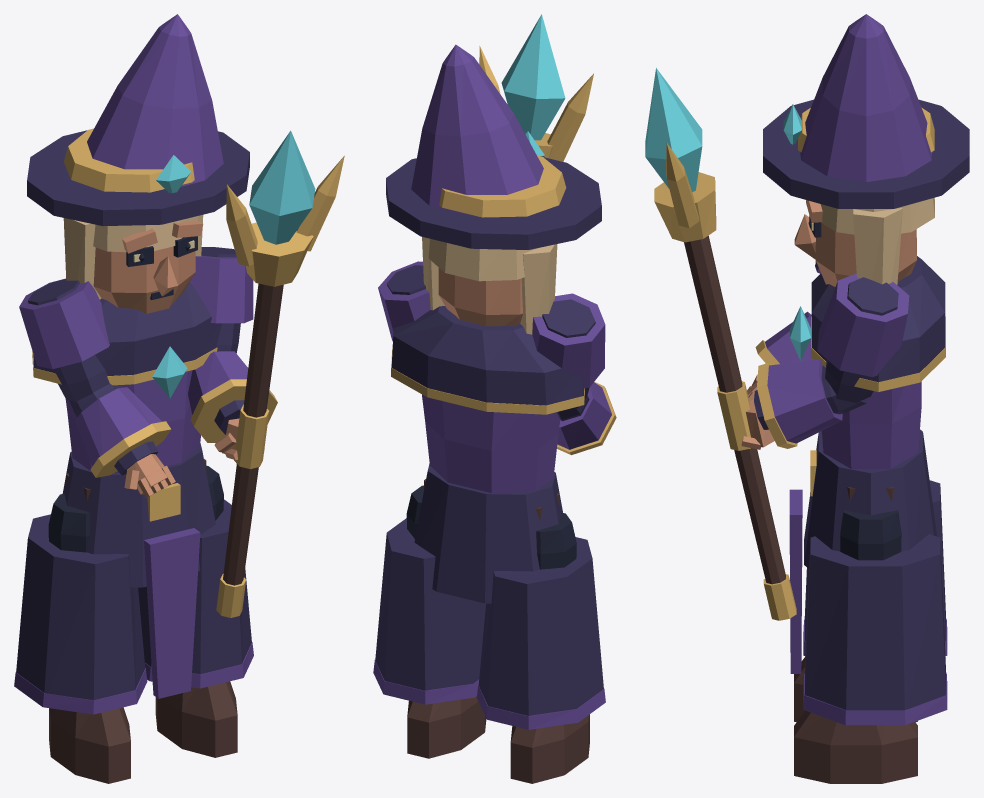
The model's file is mage.obj.
3 views of the same model, side by side, from view 1: azimuth 30°, elevation 25°; view 2: azimuth 150°, elevation 25°; view 3: azimuth 270°, elevation 25° (orthographic). The views are drawn at different scales.
Parts seen in each view (by area): view 1: mage_35, mage_05, mage_04, mage_37, mage_09, mage_38, mage_24, mage_30, mage_00, mage_08, mage_22, mage_32 (+24 smaller); view 2: mage_35, mage_05, mage_30, mage_37, mage_24, mage_23, mage_04, mage_03, mage_10, mage_32, mage_27, mage_00 (+13 smaller); view 3: mage_30, mage_05, mage_04, mage_37, mage_27, mage_08, mage_09, mage_23, mage_24, mage_16, mage_03, mage_13 (+13 smaller).
Boxes of the visible parts, left/top/right/bottom form: mage_35: left=16, top=514, right=145, bottom=700; mage_05: left=87, top=14, right=223, bottom=186; mage_04: left=27, top=130, right=249, bottom=226; mage_37: left=62, top=443, right=215, bottom=587; mage_09: left=216, top=155, right=344, bottom=617; mage_38: left=144, top=528, right=200, bottom=698; mage_24: left=33, top=283, right=221, bottom=375; mage_30: left=138, top=499, right=251, bottom=674; mage_00: left=93, top=220, right=203, bottom=313; mage_08: left=223, top=283, right=283, bottom=585; mage_22: left=19, top=278, right=109, bottom=369; mage_32: left=49, top=707, right=130, bottom=783; mage_35: left=478, top=537, right=603, bottom=715; mage_05: left=411, top=44, right=543, bottom=213; mage_30: left=375, top=518, right=485, bottom=690; mage_37: left=414, top=463, right=562, bottom=603; mage_24: left=391, top=306, right=584, bottom=405; mage_23: left=422, top=394, right=560, bottom=493; mage_04: left=386, top=157, right=601, bottom=249; mage_03: left=422, top=237, right=557, bottom=334; mage_10: left=501, top=14, right=565, bottom=140; mage_32: left=510, top=714, right=589, bottom=783; mage_27: left=407, top=696, right=486, bottom=758; mage_00: left=438, top=267, right=522, bottom=326; mage_30: left=804, top=534, right=946, bottom=710; mage_05: left=800, top=14, right=932, bottom=181; mage_04: left=763, top=99, right=969, bottom=208; mage_37: left=804, top=429, right=937, bottom=568; mage_27: left=794, top=710, right=917, bottom=783; mage_08: left=684, top=235, right=785, bottom=584; mage_09: left=654, top=143, right=796, bottom=620; mage_23: left=822, top=381, right=921, bottom=468; mage_24: left=811, top=256, right=945, bottom=382; mage_16: left=817, top=273, right=909, bottom=377; mage_03: left=820, top=197, right=934, bottom=284; mage_13: left=767, top=359, right=842, bottom=443.
Size of the model in its own units: 0.8692 by 2.71 by 1.06.
